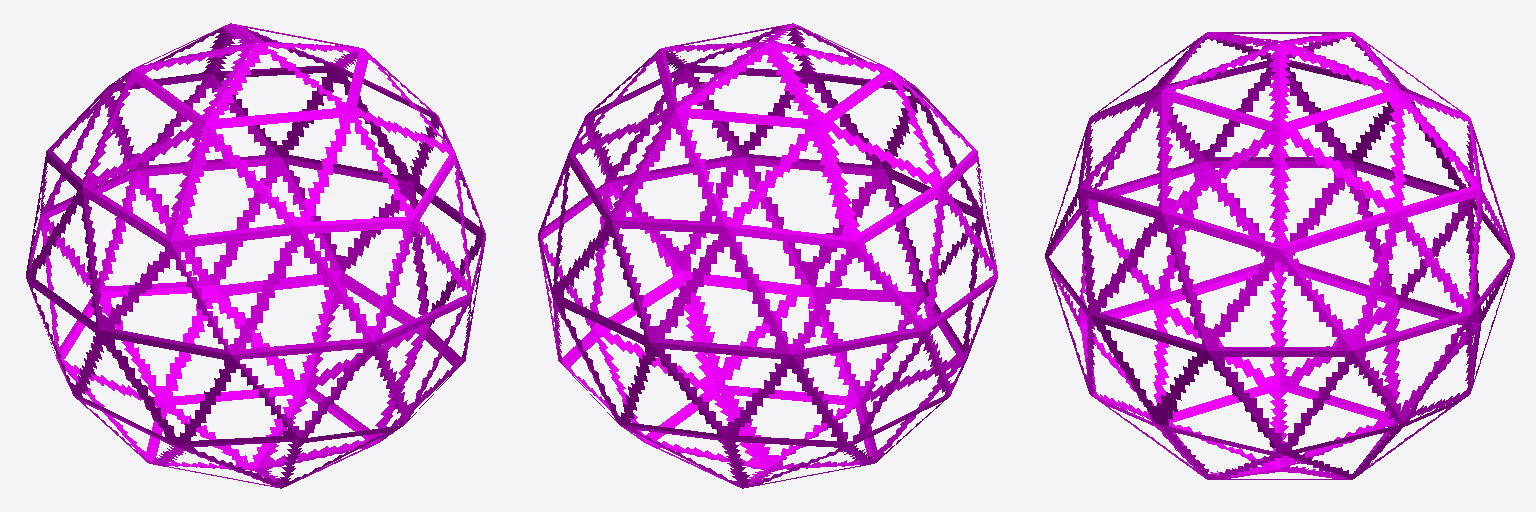
3 views of the same model, side by side, from view 1: azimuth 30°, elevation 25°; view 2: azimuth 150°, elevation 25°; view 3: azimuth 270°, elevation 25° (orthographic).
Parts seen in each view (by area): view 1: ICO球; view 2: ICO球; view 3: ICO球.
Part boxes in pixels (x1,y1,x2,y2): ICO球: (26,23,485,488); ICO球: (538,23,997,488); ICO球: (1045,32,1514,479).
Size of the model in its own units: 1.9 by 2 by 2.
1 materials, 1 textured.